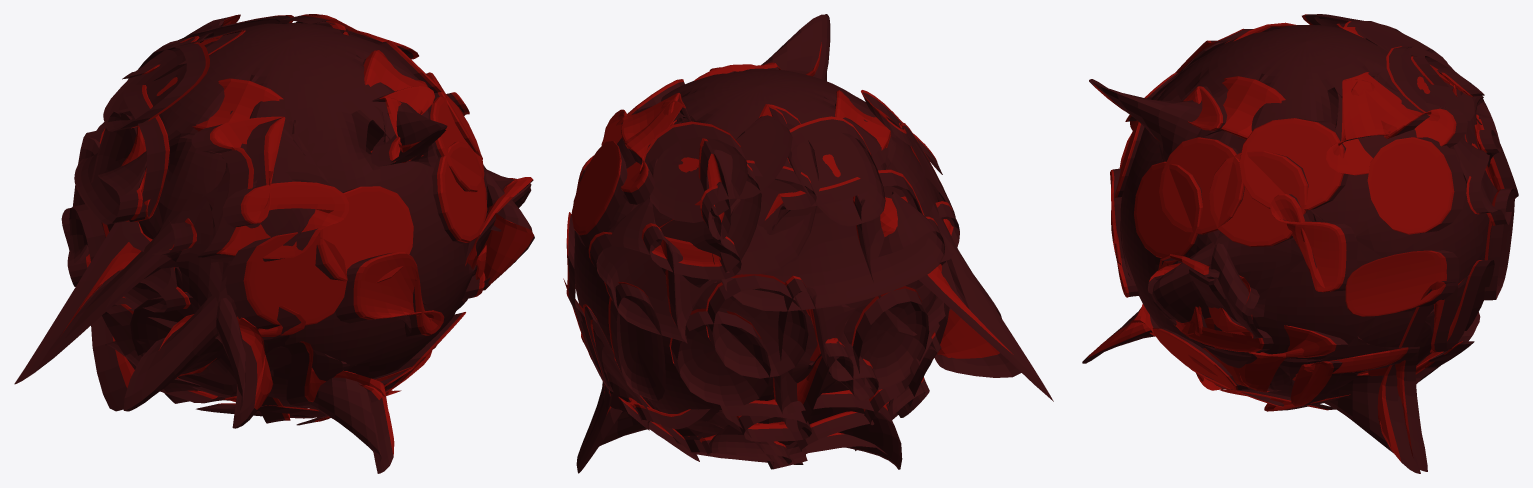
File: meteoro2.fbx
3 views of the same model, side by side, from view 1: azimuth 30°, elevation 25°; view 2: azimuth 150°, elevation 25°; view 3: azimuth 270°, elevation 25° (orthographic). The views are drawn at different scales.
Visible parts, largest first — view 1: Sphere; view 2: Sphere; view 3: Sphere.
Part boxes in pixels (x1,y1,x2,y2): Sphere: [14, 14, 534, 473]; Sphere: [563, 14, 1053, 473]; Sphere: [1082, 14, 1518, 473].
Size of the model in its own units: 487 by 359 by 380.
